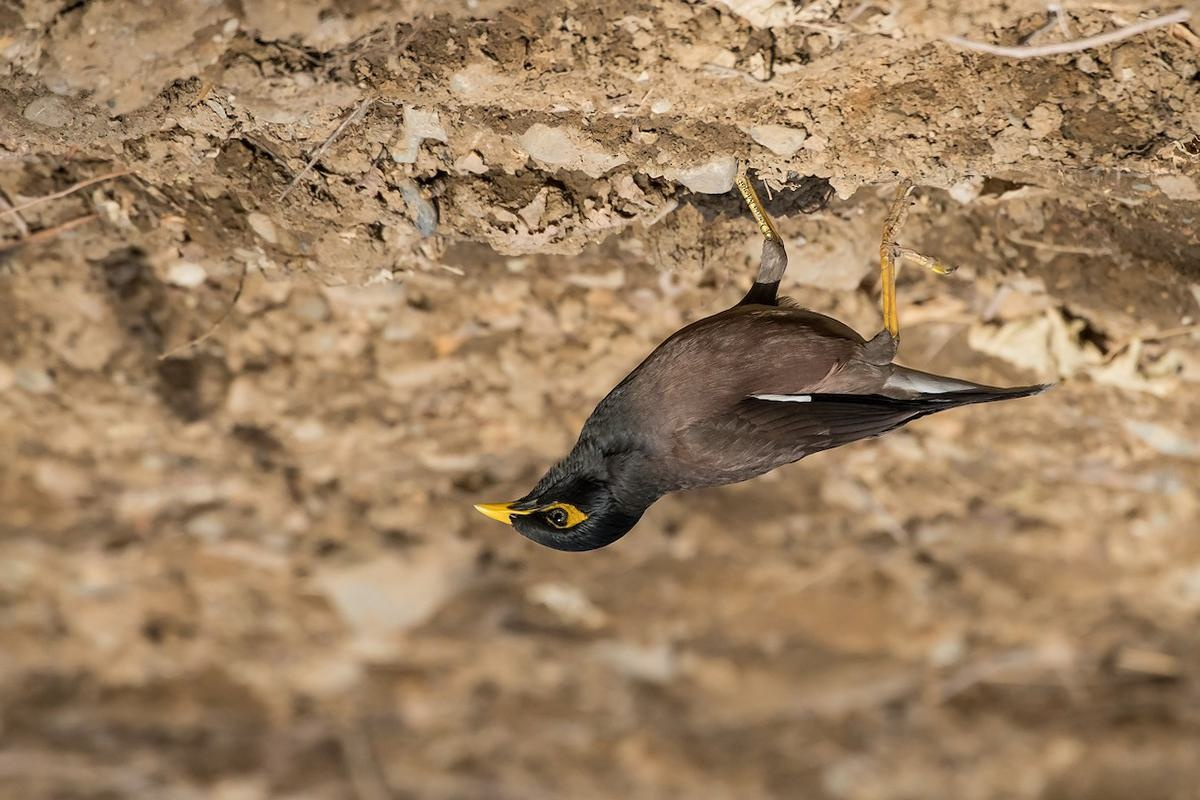myna: (465, 152, 1005, 563)
